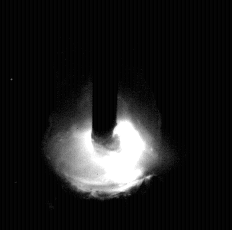arame: (93, 0, 118, 144)
poca: (43, 0, 163, 230)
